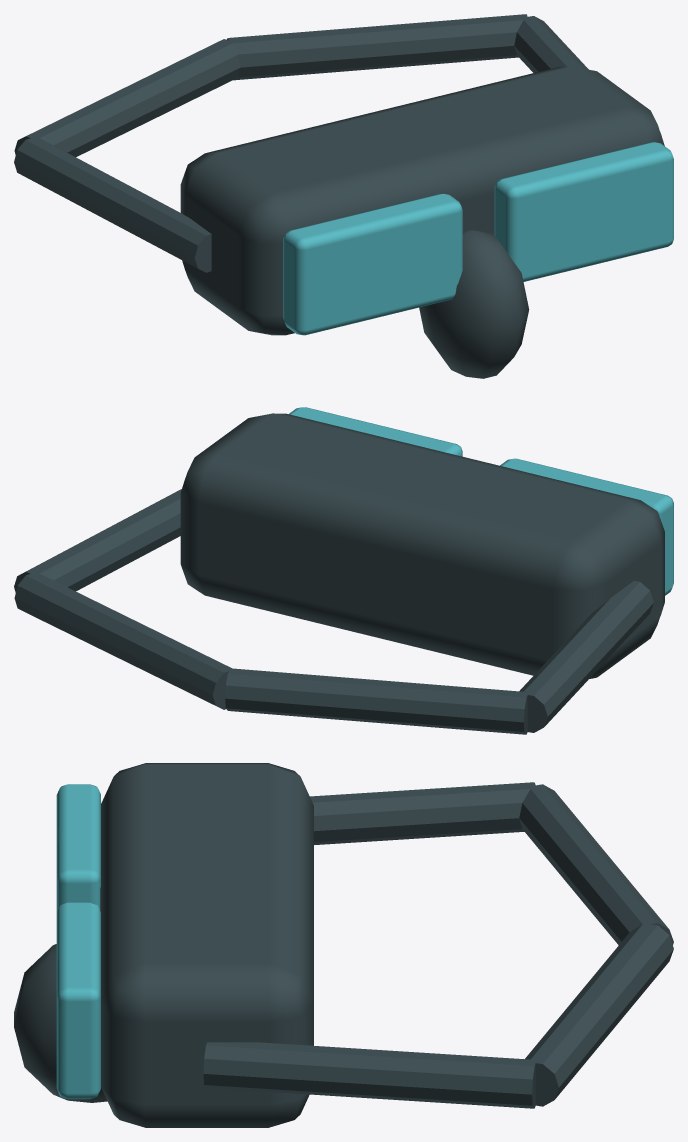
Rendered from dive-mask.glb.
3 renders of one model, top to bottom at view 1: azimuth 30°, elevation 25°; view 2: azimuth 150°, elevation 25°; view 3: azimuth 270°, elevation 25°, orthographic. The views are drawn at different scales.
Visible parts, largest first — view 1: dive-mask; view 2: dive-mask; view 3: dive-mask.
Boxes of the visible parts, box(x1,y1,x2,y2) form: dive-mask: box(14, 14, 673, 378); dive-mask: box(14, 407, 673, 734); dive-mask: box(14, 763, 673, 1127).
Size of the model in its own units: 0.4297 by 0.16 by 0.4017.
